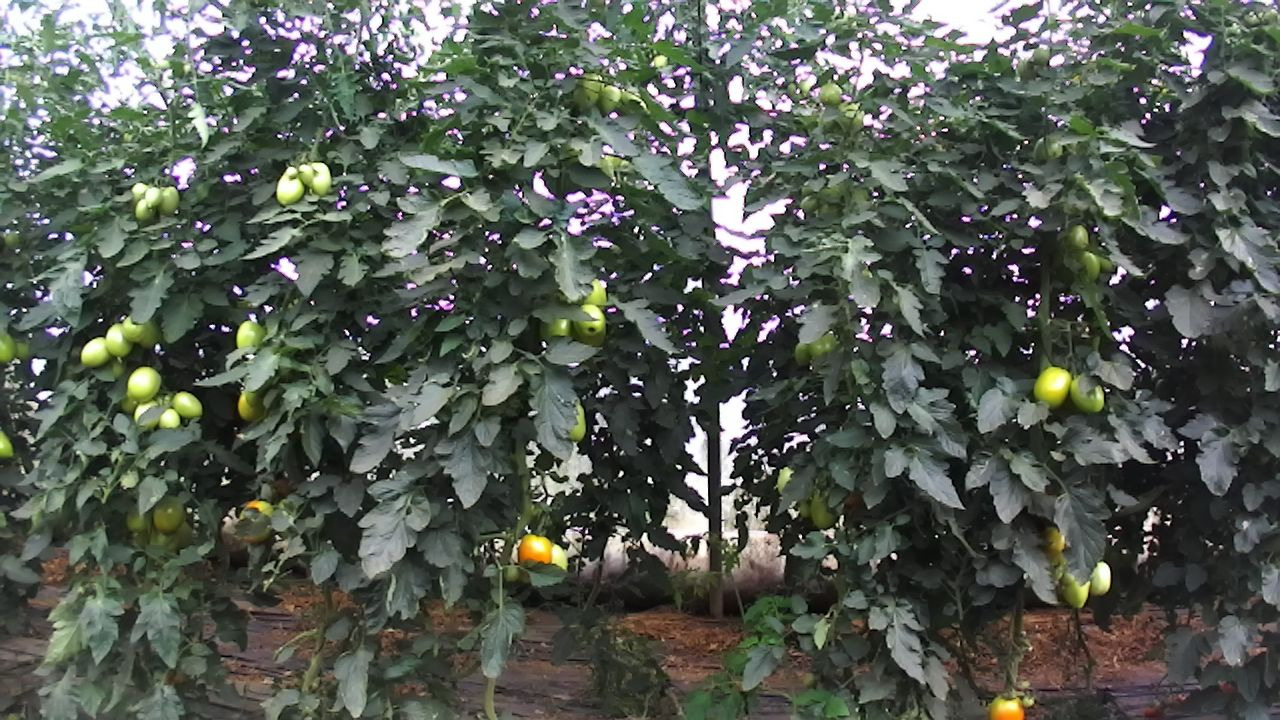tomato: (1030, 363, 1073, 414), (149, 492, 187, 538), (123, 363, 163, 404), (1068, 375, 1105, 415), (985, 689, 1028, 720), (517, 529, 553, 566), (79, 333, 115, 370), (103, 321, 133, 364), (1059, 572, 1092, 611), (232, 319, 269, 352), (809, 489, 837, 531), (1086, 558, 1114, 598), (171, 388, 205, 420), (274, 173, 306, 207), (118, 312, 150, 344), (308, 159, 332, 198), (235, 391, 263, 424), (156, 183, 181, 218), (133, 196, 157, 224), (819, 81, 843, 106), (142, 183, 163, 211), (295, 160, 314, 187), (791, 341, 811, 366)
